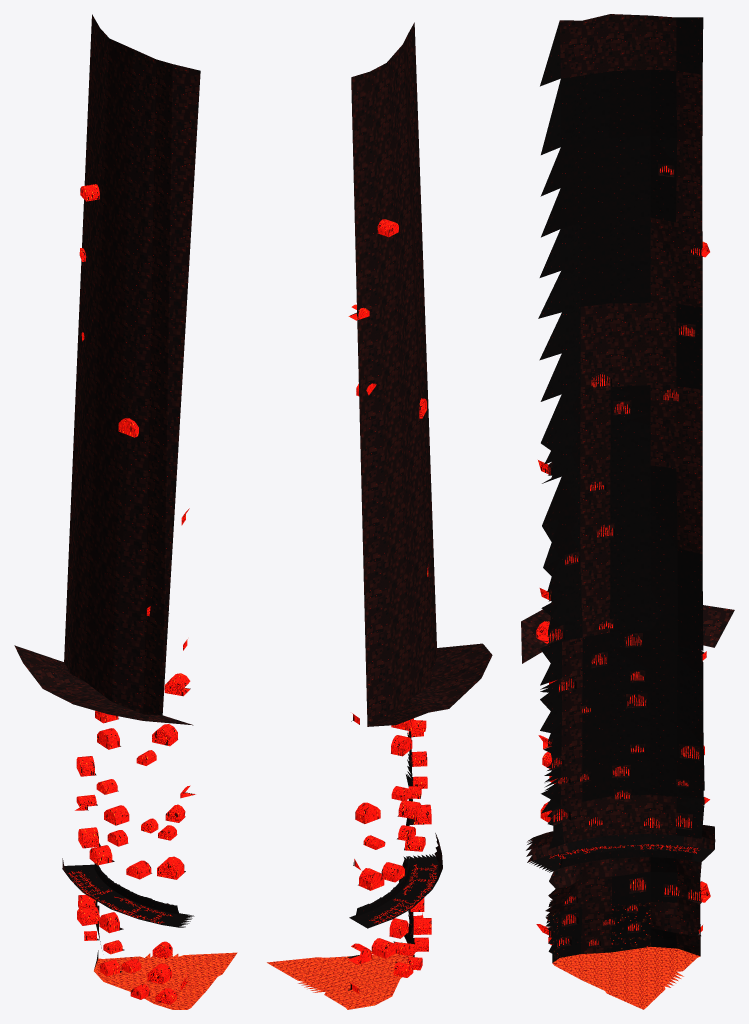
File: map_base_s3.glb
3 views of the same model, side by side, from view 1: azimuth 30°, elevation 25°; view 2: azimuth 150°, elevation 25°; view 3: azimuth 270°, elevation 25° (orthographic).
Parts seen in each view (by area): view 1: MapBaseS3Rock; view 2: MapBaseS3Rock; view 3: MapBaseS3Rock.
Boxes of the visible parts, left/top/right/bottom form: MapBaseS3Rock: left=14, top=14, right=237, bottom=1009; MapBaseS3Rock: left=267, top=22, right=492, bottom=1009; MapBaseS3Rock: left=521, top=14, right=734, bottom=1009.
Size of what is drawn, in the model's own units: 72.21 by 342 by 70.74.
6 materials, 6 textured.
